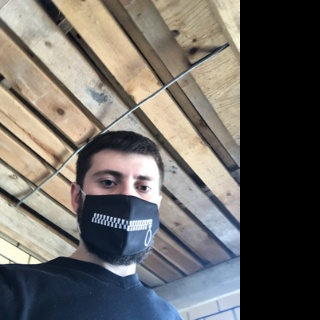with_mask: (81, 163, 161, 264)
